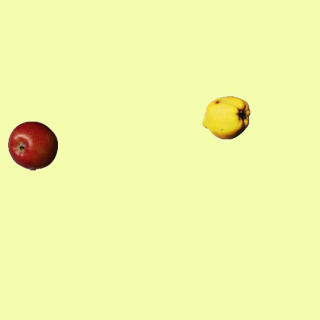Apple Braeburn: (7, 120, 57, 170)
Quince: (200, 92, 250, 142)
